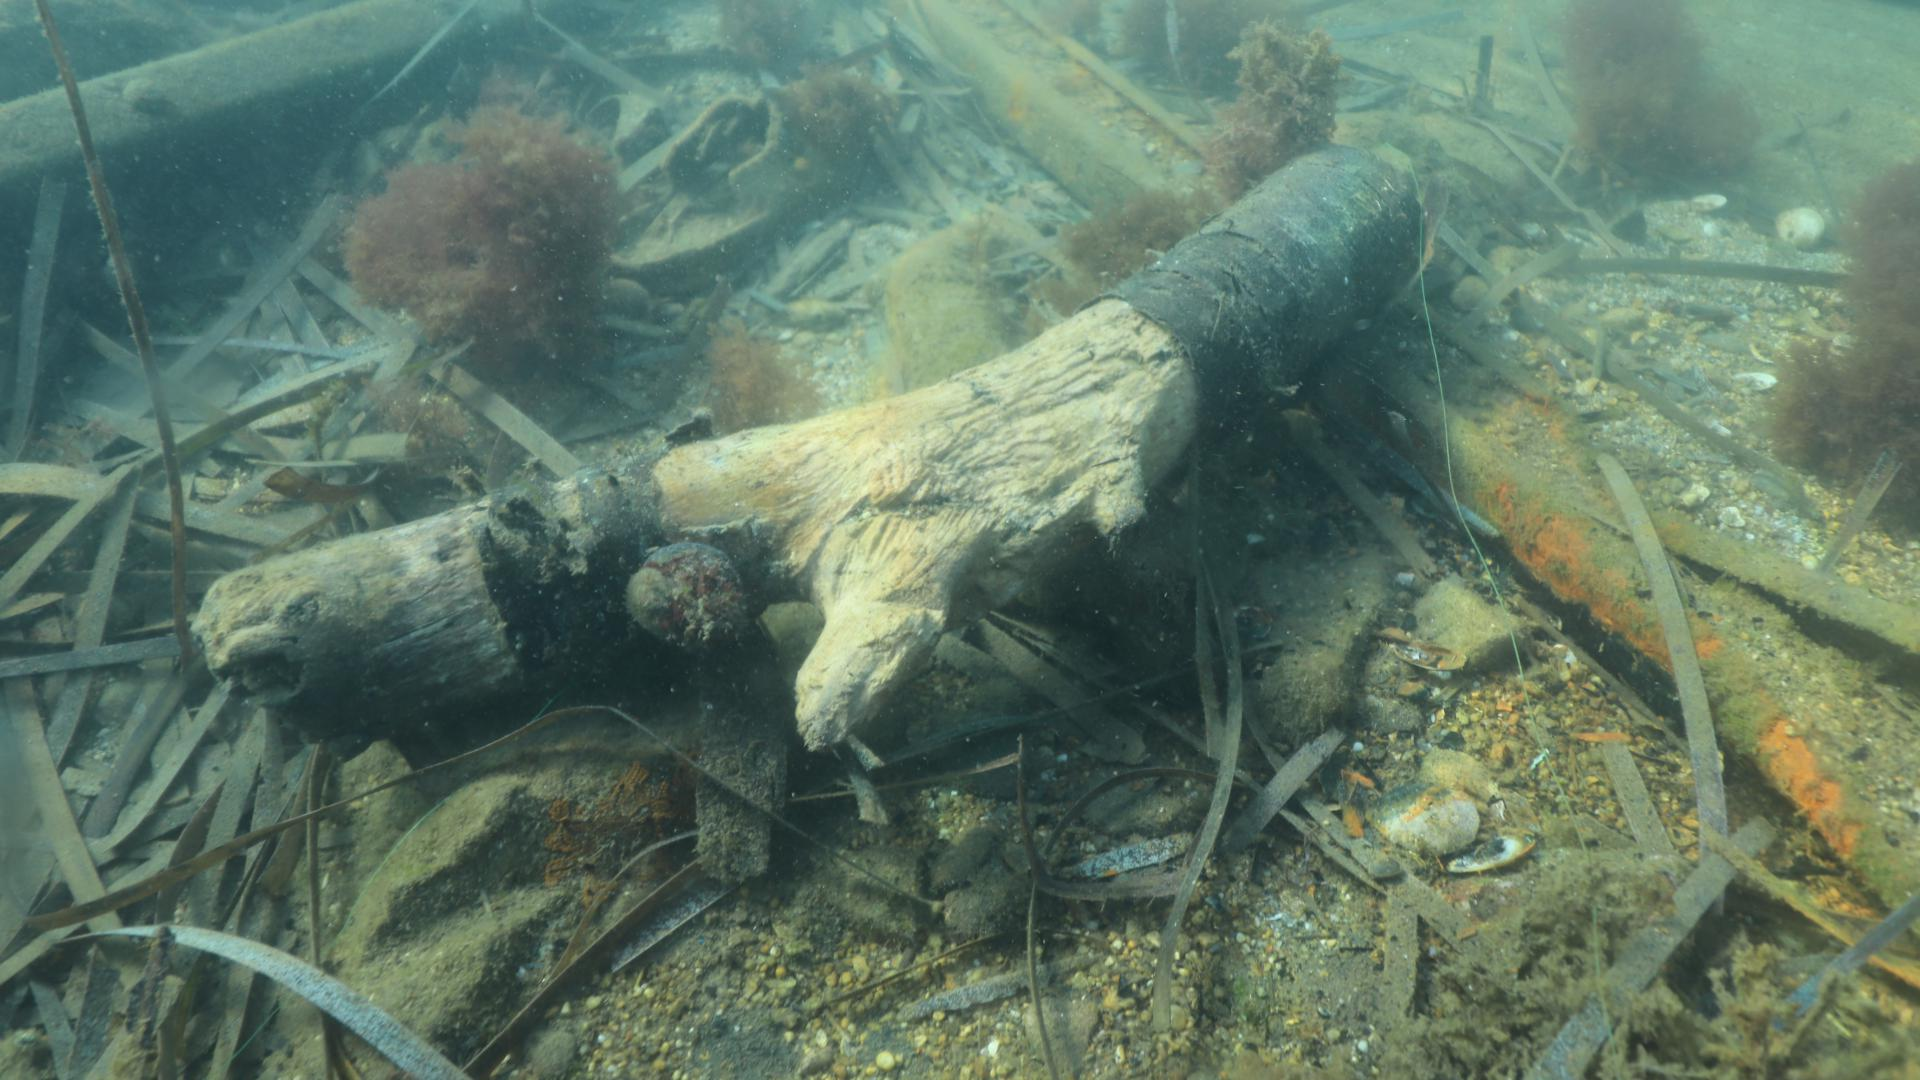wood: (179, 115, 1429, 757)
